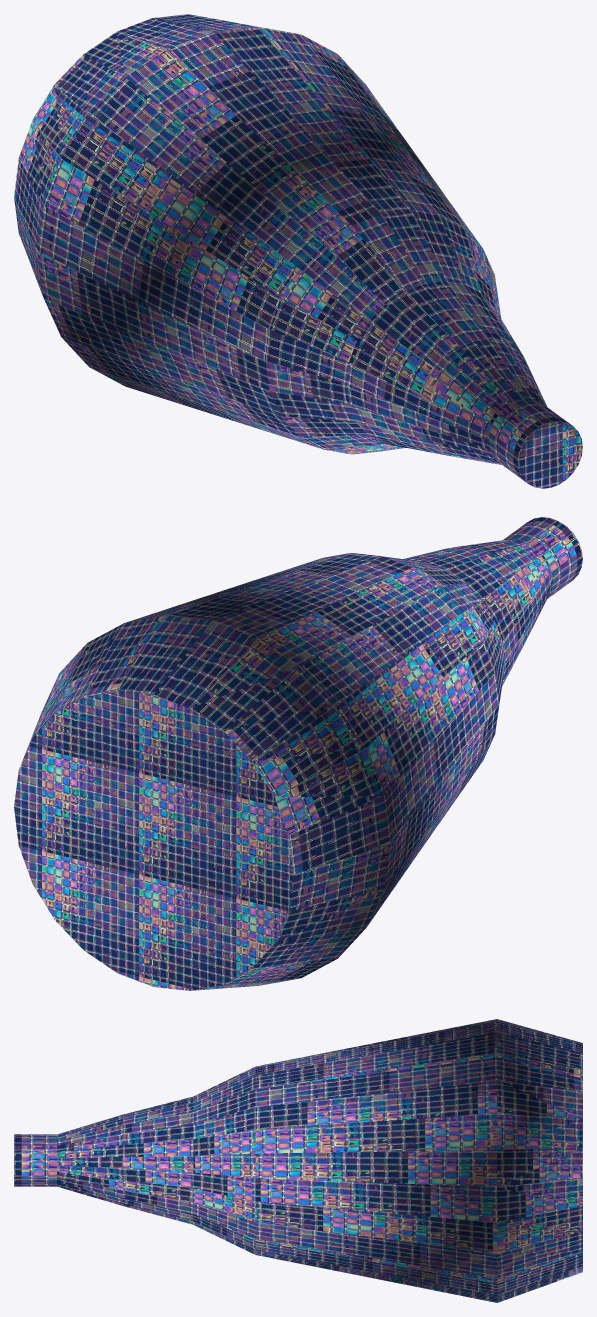
Rendered from model_scale.obj.
3 renders of one model, top to bottom at view 1: azimuth 30°, elevation 25°; view 2: azimuth 150°, elevation 25°; view 3: azimuth 270°, elevation 25°, orthographic. The views are drawn at different scales.
Parts seen in each view (by area): view 1: mesh1_mesh1-geometry; view 2: mesh1_mesh1-geometry; view 3: mesh1_mesh1-geometry.
Part boxes in pixels (left/top/right/bottom): mesh1_mesh1-geometry: left=14, top=14, right=582, bottom=488; mesh1_mesh1-geometry: left=14, top=517, right=582, bottom=990; mesh1_mesh1-geometry: left=14, top=1019, right=582, bottom=1302.
Bounding box in the file's own units: 0.1196 × 0.1161 × 0.2333.
Materials: 2 (1 with a texture image).
